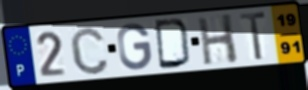2: (35, 30, 68, 79)
C: (68, 25, 111, 77)
D: (153, 18, 193, 71)
G: (116, 22, 154, 72)
H: (196, 12, 241, 67)
T: (238, 10, 269, 63)
